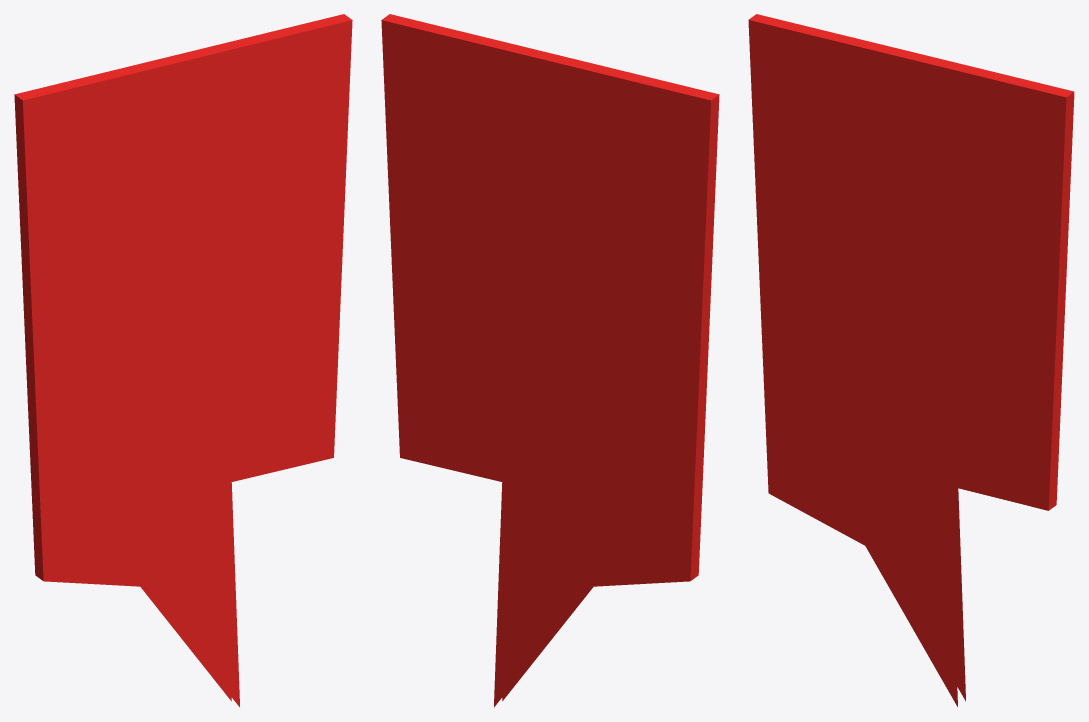
The model's file is WZMTop.fbx.
3 views of the same model, side by side, from view 1: azimuth 30°, elevation 25°; view 2: azimuth 150°, elevation 25°; view 3: azimuth 330°, elevation 25° (orthographic). The views are drawn at different scales.
Visible parts, largest first — view 1: Plane.063; view 2: Plane.063; view 3: Plane.063.
Part boxes in pixels (x1,y1,x2,y2): Plane.063: [14, 14, 352, 707]; Plane.063: [381, 14, 719, 707]; Plane.063: [748, 14, 1074, 706].
Bounding box in the file's own units: 0.4921 × 0.9419 × 0.0215.
